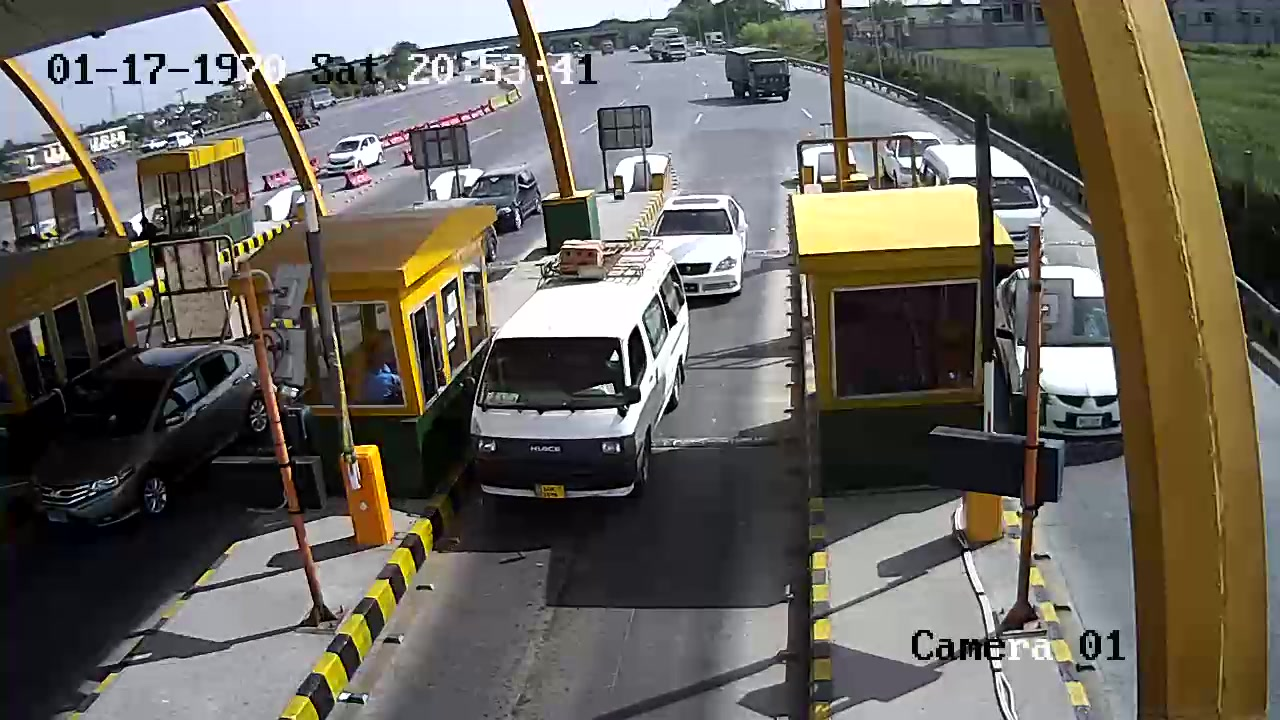F3: (471, 231, 694, 514)
